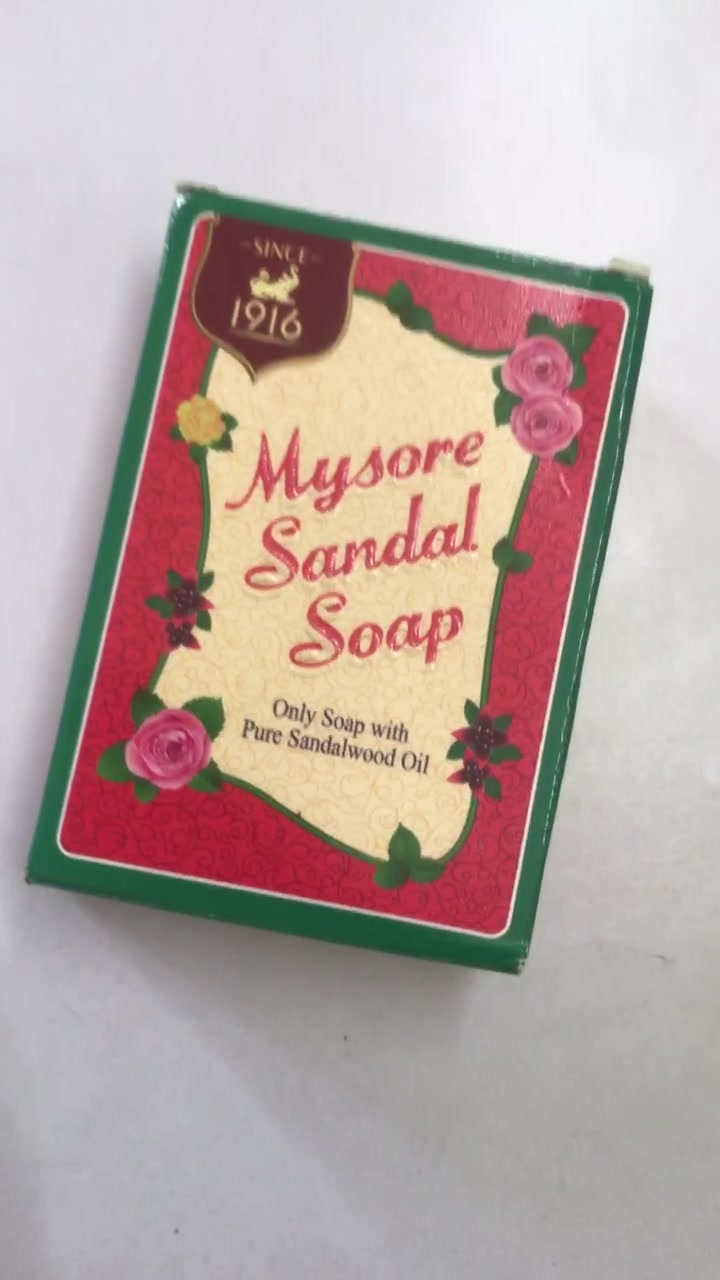mysore sandal soap: (35, 193, 648, 984)
